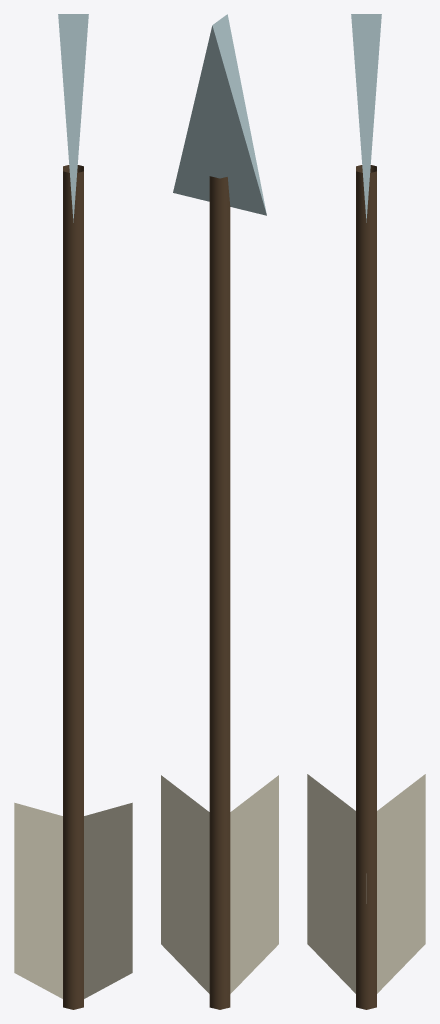
Rendered from Arrow.fbx.
3 renders of one model, left to right at view 1: azimuth 90°, elevation 25°; view 2: azimuth 150°, elevation 25°; view 3: azimuth 270°, elevation 25°, orthographic.
Visible parts, largest first — view 1: Arrow shaft_export, Feather fletching.001_export, Feather fletching.002_export, Broadhead_export; view 2: Arrow shaft_export, Broadhead_export, Feather fletching.002_export, Feather fletching_export; view 3: Arrow shaft_export, Feather fletching.001_export, Feather fletching.002_export, Broadhead_export.
Boxes of the visible parts, left/top/right/bottom form: Arrow shaft_export: left=63, top=165, right=83, bottom=1009; Feather fletching.001_export: left=14, top=802, right=62, bottom=998; Feather fletching.002_export: left=84, top=802, right=132, bottom=998; Broadhead_export: left=58, top=14, right=88, bottom=222; Arrow shaft_export: left=209, top=176, right=230, bottom=1009; Broadhead_export: left=173, top=14, right=266, bottom=215; Feather fletching.002_export: left=230, top=775, right=278, bottom=993; Feather fletching_export: left=161, top=775, right=209, bottom=993; Arrow shaft_export: left=356, top=165, right=376, bottom=1009; Feather fletching.001_export: left=377, top=774, right=425, bottom=993; Feather fletching.002_export: left=307, top=774, right=355, bottom=993; Broadhead_export: left=351, top=14, right=381, bottom=222.
Bounding box in the file's own units: 36 × 320 × 34.64.
